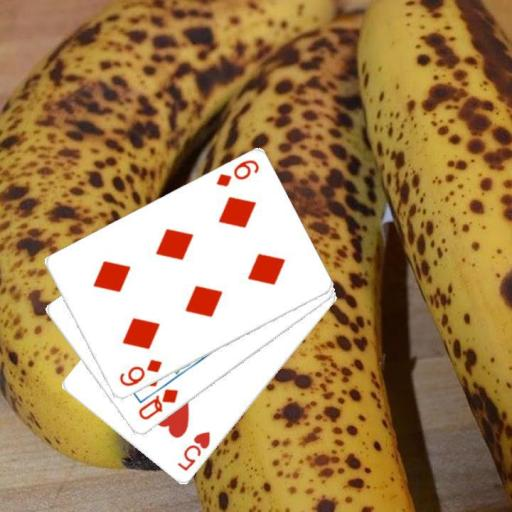5H: (173, 428, 212, 474)
6D: (213, 157, 261, 189), (116, 357, 163, 389)
QD: (134, 386, 180, 423)
